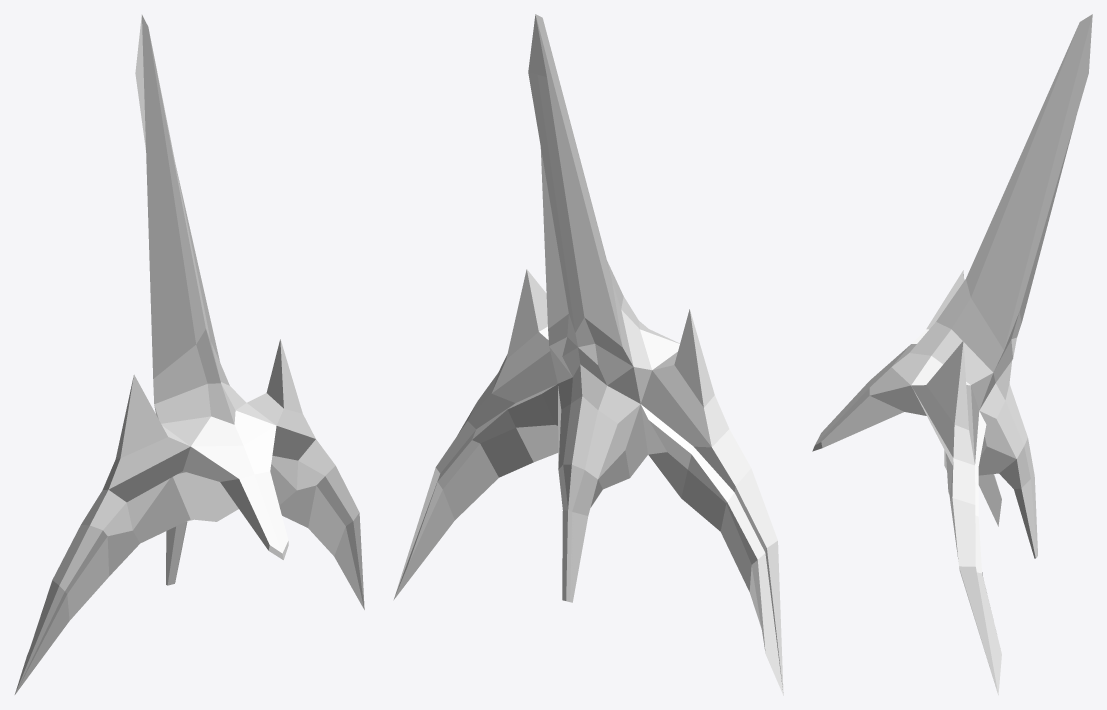
Rendered from head_43.fbx.
3 renders of one model, left to right at view 1: azimuth 30°, elevation 25°; view 2: azimuth 150°, elevation 25°; view 3: azimuth 270°, elevation 25°, orthographic. The views are drawn at different scales.
Parts seen in each view (by area): view 1: Cube.174; view 2: Cube.174; view 3: Cube.174.
Boxes of the visible parts, x1,y1,x2,y2 form: Cube.174: (14, 14, 364, 694); Cube.174: (393, 14, 783, 695); Cube.174: (812, 14, 1092, 695).
Size of the model in its own units: 116 by 192 by 81.66.
